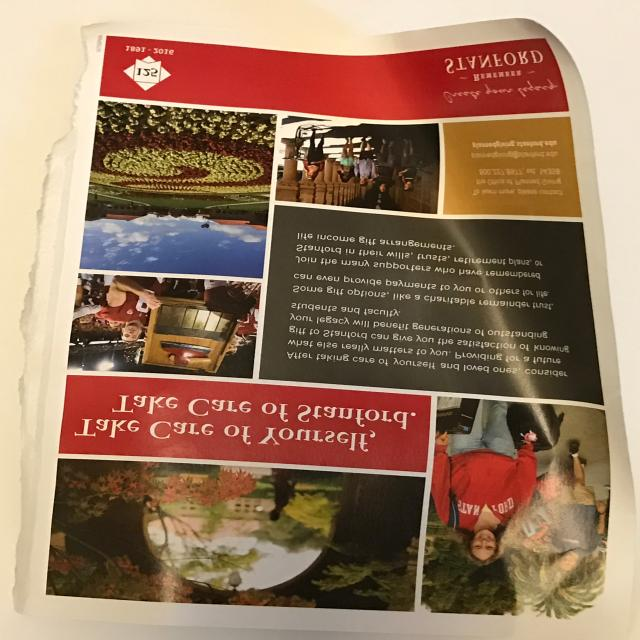paper: (0, 9, 612, 632)
